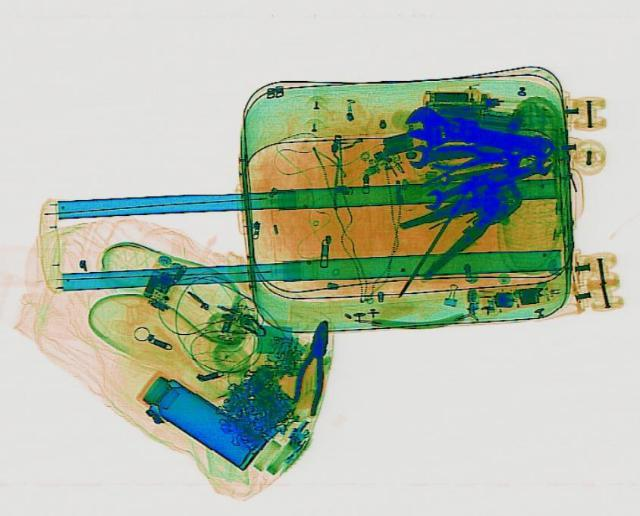Pliers: (382, 173, 548, 279), (283, 315, 337, 412)
Wrench: (398, 103, 558, 164), (412, 160, 516, 209)
